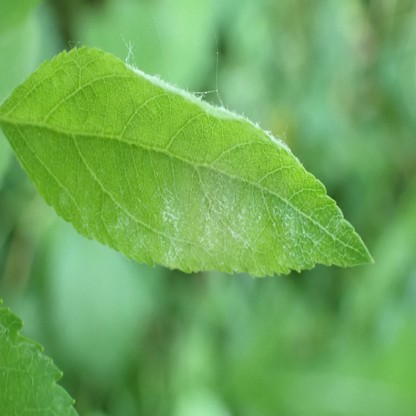powder: (126, 64, 291, 150), (0, 302, 76, 416), (196, 184, 263, 249), (273, 205, 318, 257), (160, 186, 181, 232), (159, 235, 182, 267), (113, 209, 130, 234)
